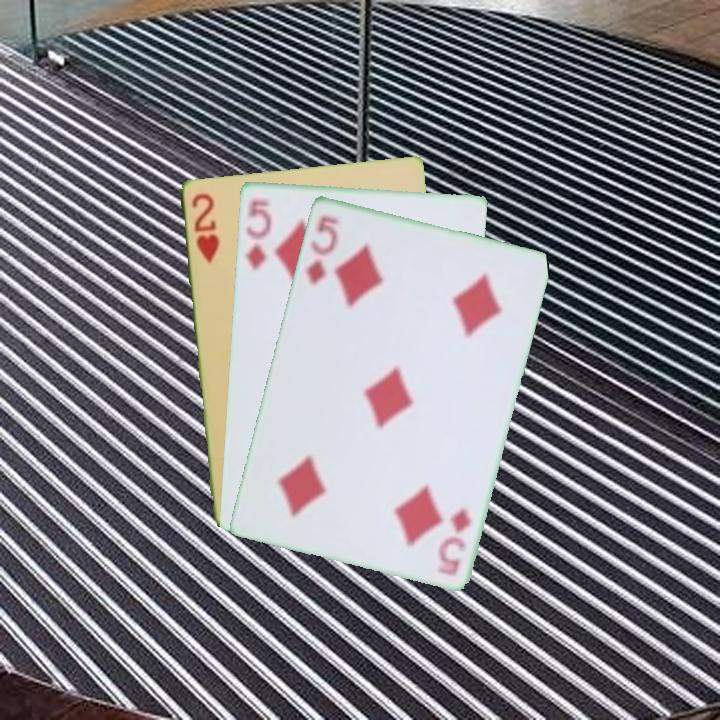2h: (187, 189, 221, 266)
5d: (302, 211, 343, 288), (433, 503, 473, 578), (241, 196, 274, 272)
